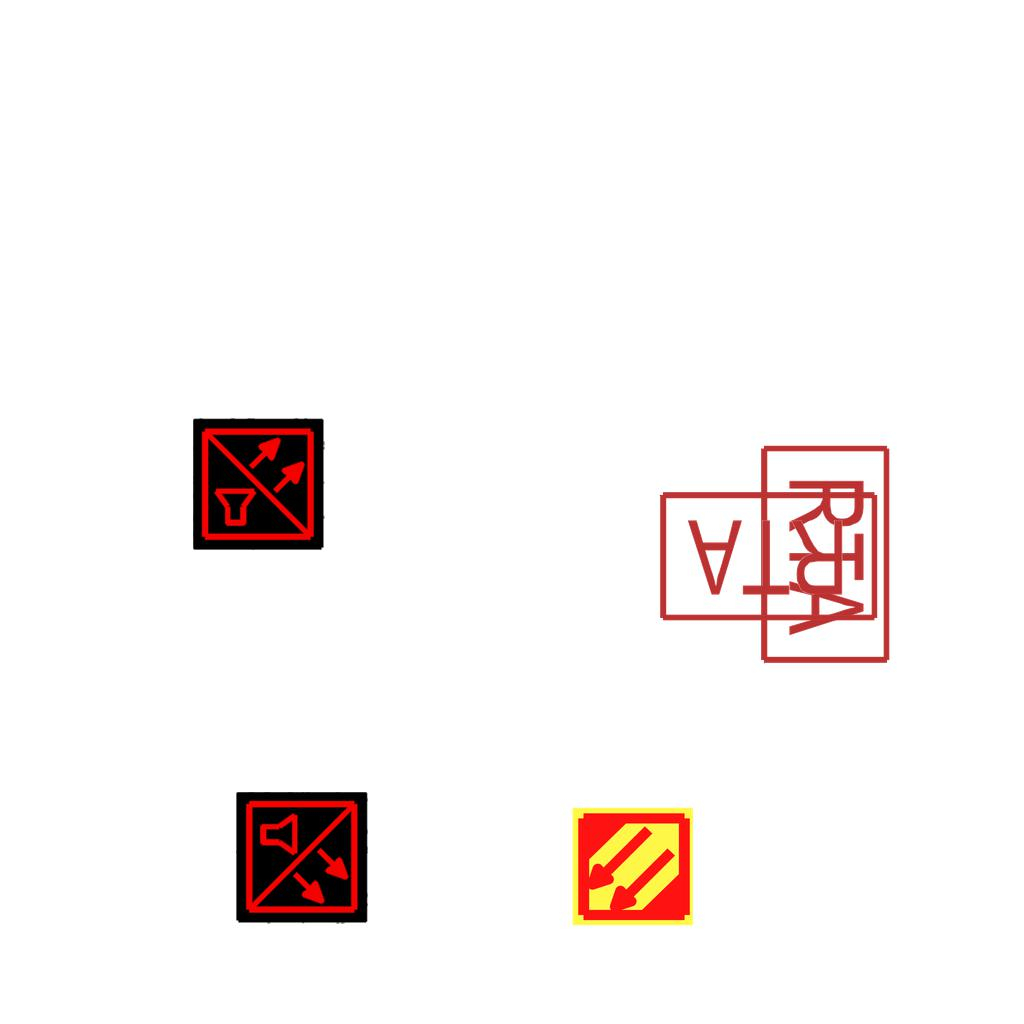ASR_Ansaugrauchmelder: (570, 804, 695, 929)
OKW_Multisensormelder_(Kombination_optischer_Rauch-Kahlenmonoxid_Waerme-Melder): (193, 418, 325, 550), (236, 792, 368, 924)
Ruf-und_Abstelltaster: (756, 438, 894, 666), (657, 487, 885, 625)
